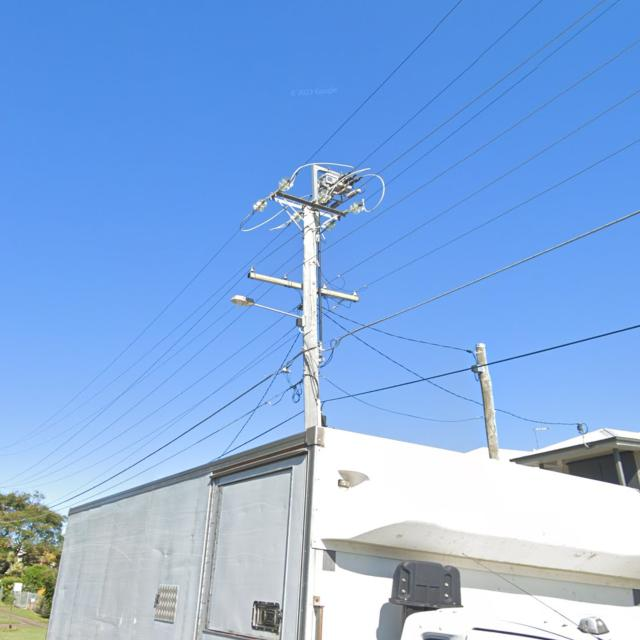HV-switch: (318, 167, 370, 209)
HV-transmission: (251, 176, 364, 233)
crossarm: (248, 270, 360, 304), (275, 190, 347, 217), (268, 196, 340, 222)
streetlight: (229, 294, 305, 321)
timber-pole: (302, 206, 321, 429), (476, 341, 501, 460)
